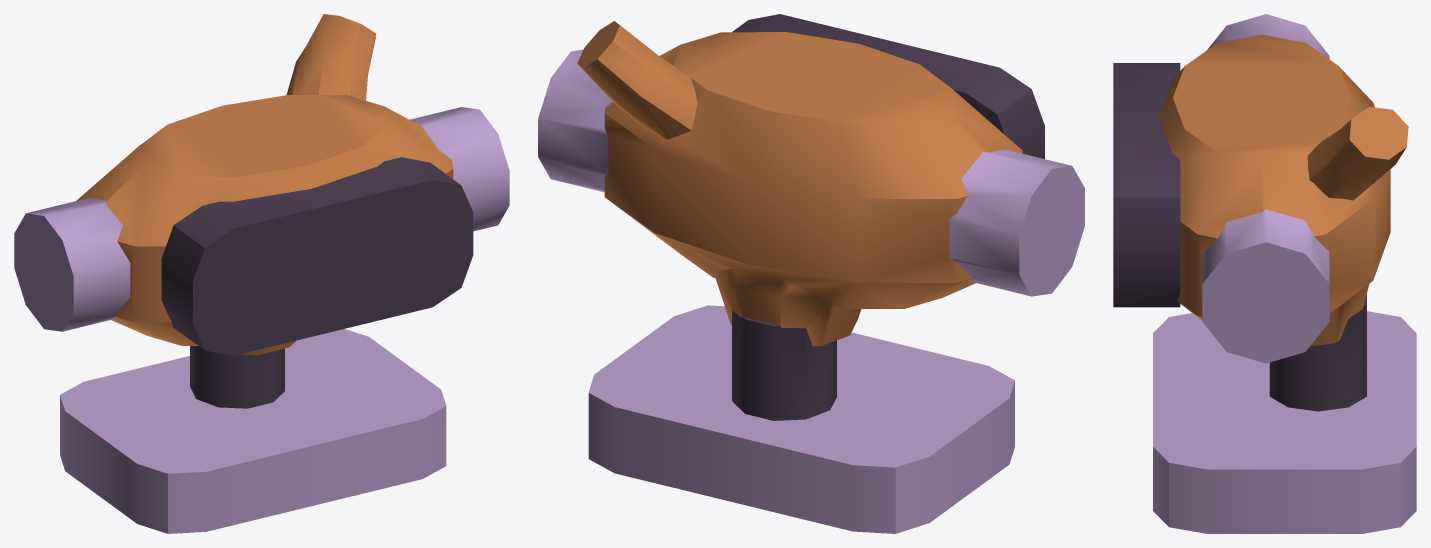
Rendered from hover-robot.glb.
3 renders of one model, left to right at view 1: azimuth 30°, elevation 25°; view 2: azimuth 150°, elevation 25°; view 3: azimuth 270°, elevation 25°, orthographic. The views are drawn at different scales.
Visible parts, largest first — view 1: hover-robot; view 2: hover-robot; view 3: hover-robot.
Part boxes in pixels (bbox=[...]): hover-robot: bbox=[14, 14, 509, 533]; hover-robot: bbox=[538, 14, 1084, 533]; hover-robot: bbox=[1113, 14, 1416, 533].
Size of the model in its own units: 2.58 by 2.18 by 1.45.
1 material, 1 textured.
